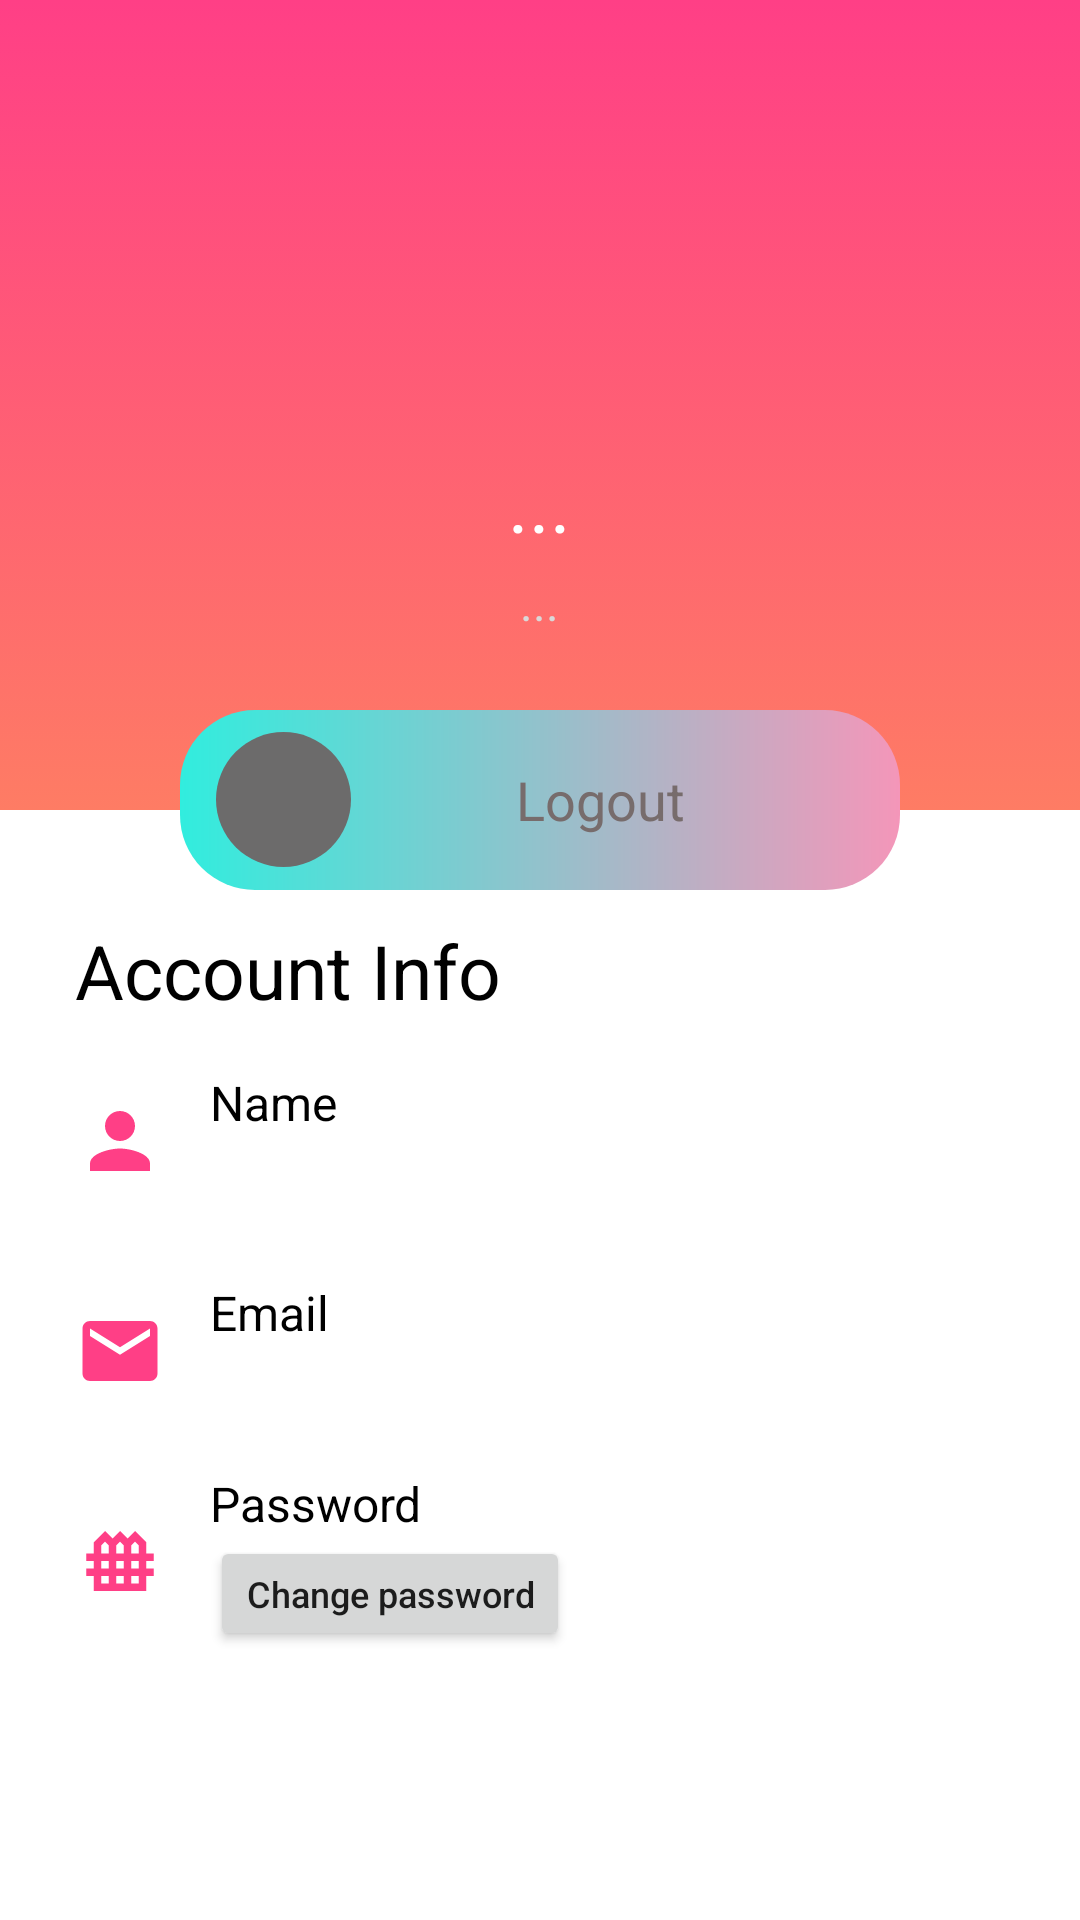

Icon click points for this 1080px×1920px phone screenshot, format (x,y):
fence: (120,1561)
person: (120,1141)
